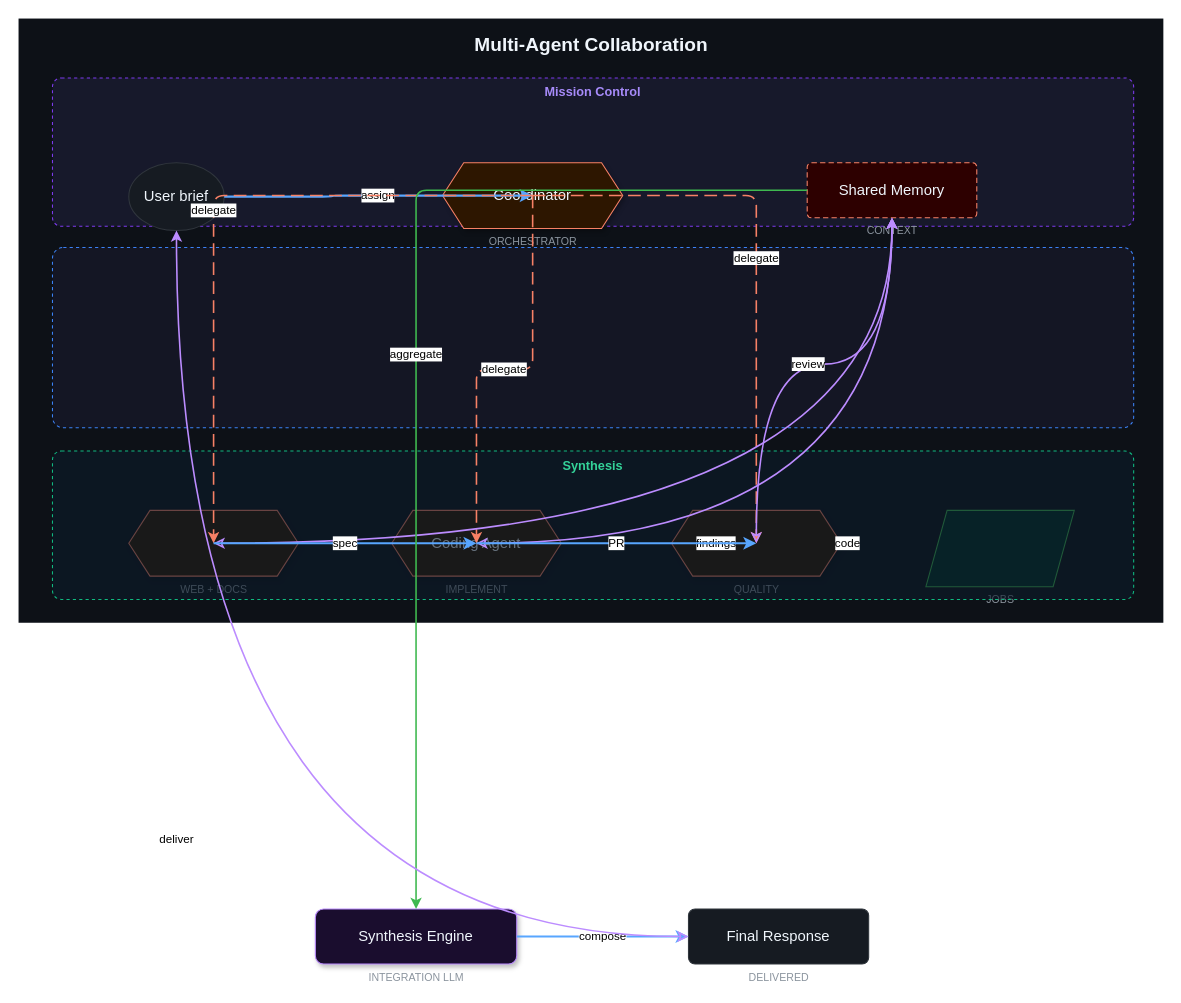
Some shapes in this 1181 by 1003 pixel diagram are drawn without their labels. The centre of each missing label's shape, as x and y in pixels:
Research Agent: the point at 214,544
Review Agent: the point at 756,544
Specialist Agents: the point at 592,337
Task Queue: the point at 999,548
